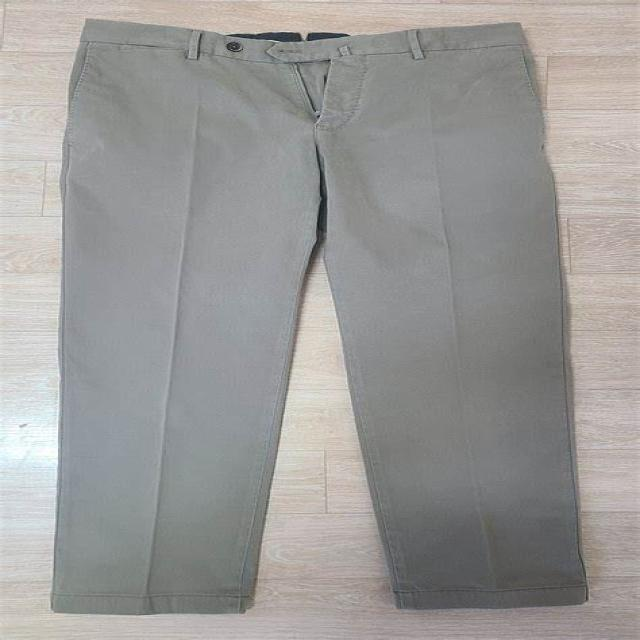long-pants: (44, 16, 590, 617)
